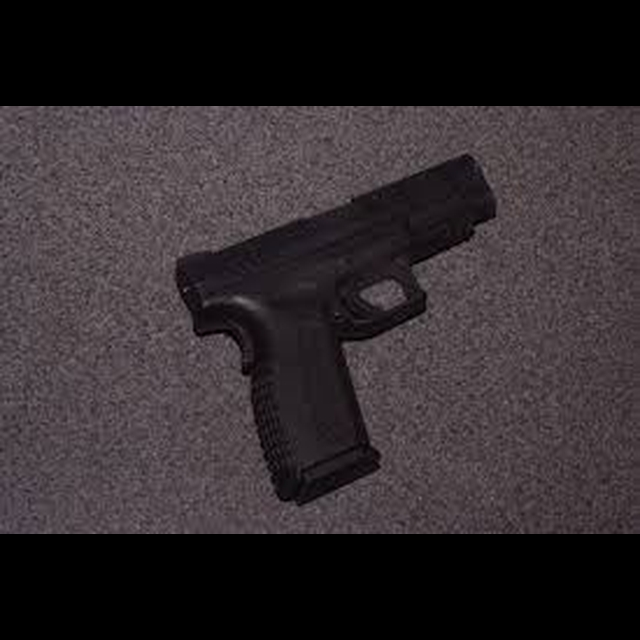SILAH: (151, 152, 537, 495)
